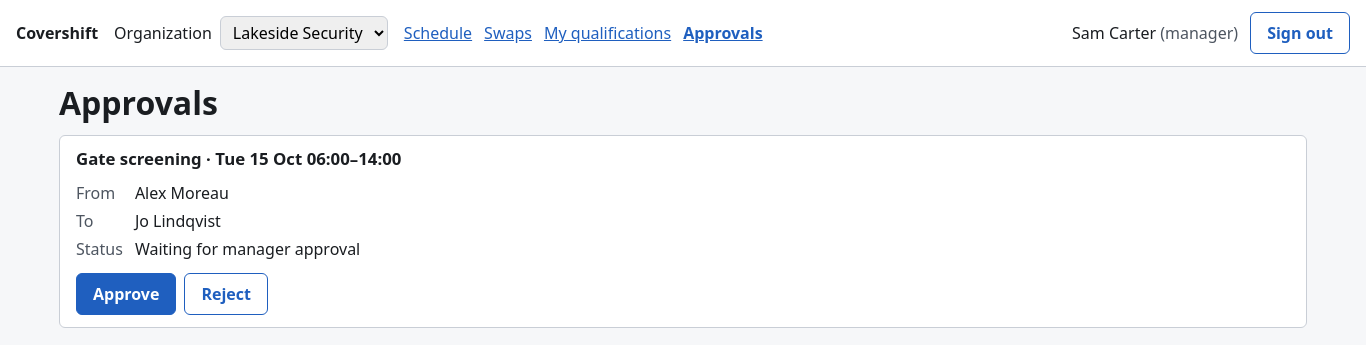
InboxPage (approvals) › a 403 from a revoked role: the reason stays, /me is refetched, the page turns read-only
Click the button "Approve" at (126,294), box [76,273,176,315]
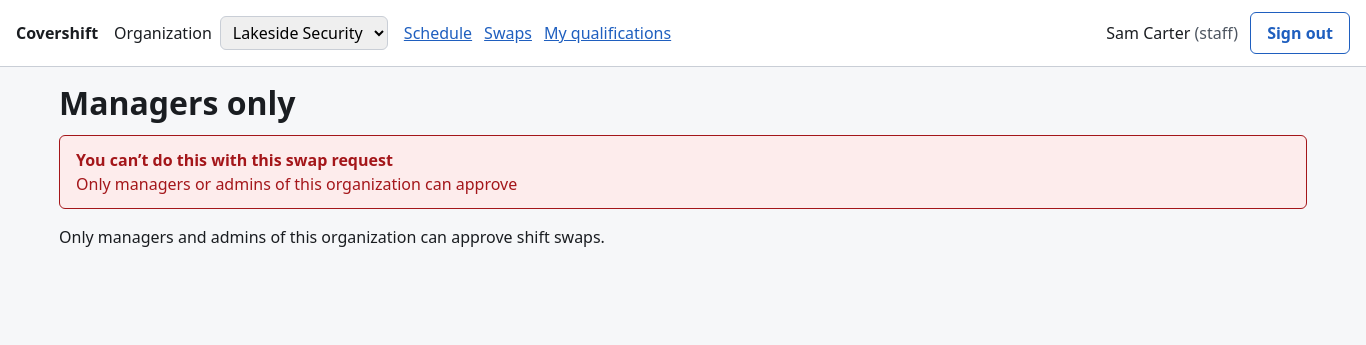
Expected: the message shows "You can’t do this with this swap request", [76,149,393,171]
Expected: the message shows "Only managers or admins of this organization can approve", [76,173,517,195]
Expected: the heading "Managers only" is shown, [59,81,296,124]
